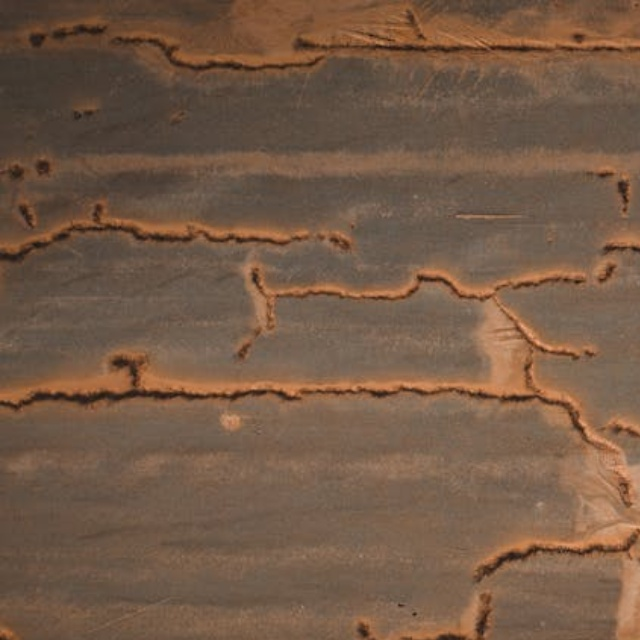细微裂纹: (0, 156, 640, 345), (0, 0, 640, 137), (0, 333, 640, 462)
